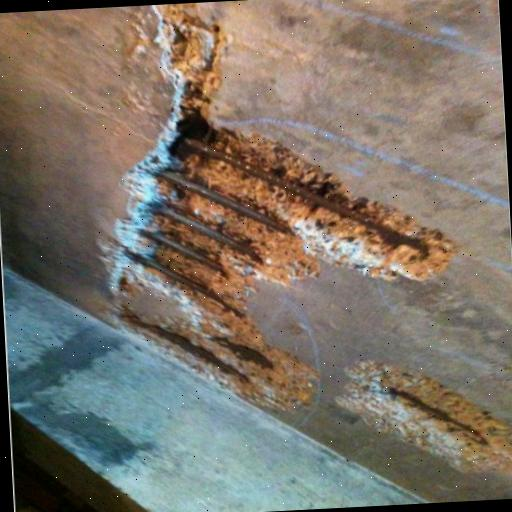spalling: (108, 3, 450, 409), (340, 358, 512, 471)
